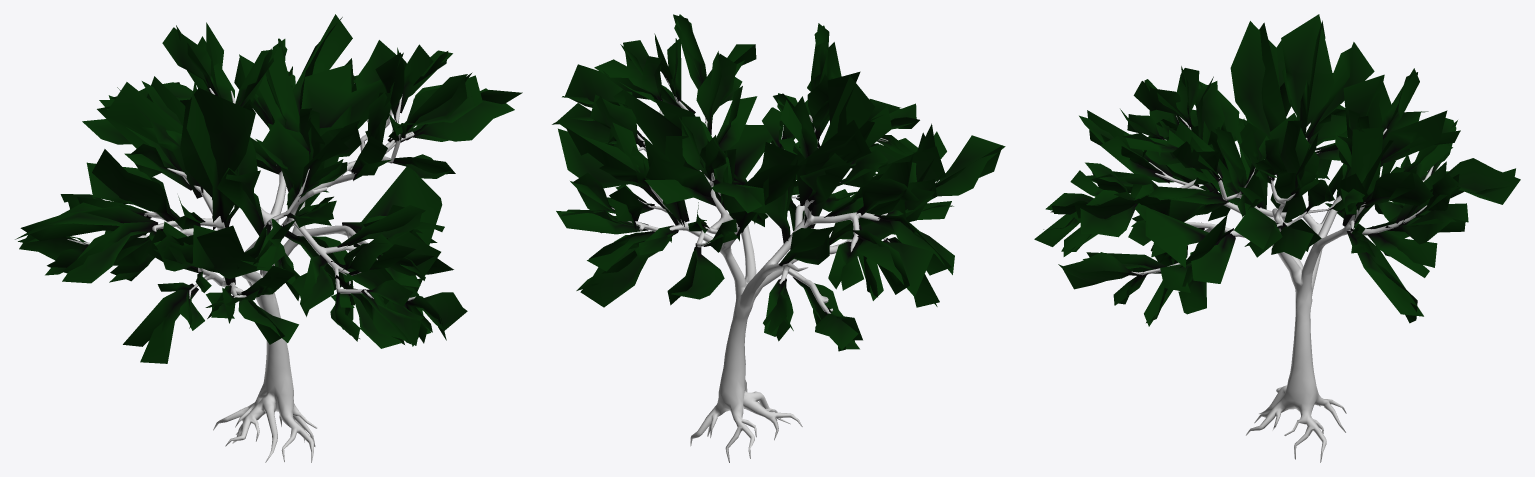
Rendered from DeadTreeCATAM_B.fbx.
3 renders of one model, left to right at view 1: azimuth 30°, elevation 25°; view 2: azimuth 150°, elevation 25°; view 3: azimuth 270°, elevation 25°, orthographic. The views are drawn at different scales.
Parts seen in each view (by area): view 1: DeadTreeCATAM_B_Leaves_LOD0, DeadTreeCATAM_B_Trunk_LOD0; view 2: DeadTreeCATAM_B_Leaves_LOD0, DeadTreeCATAM_B_Trunk_LOD0; view 3: DeadTreeCATAM_B_Leaves_LOD0, DeadTreeCATAM_B_Trunk_LOD0.
Part boxes in pixels (x1=…): DeadTreeCATAM_B_Leaves_LOD0: x1=15, y1=14, x2=522, y2=363; DeadTreeCATAM_B_Trunk_LOD0: x1=67, y1=88, x2=415, y2=462; DeadTreeCATAM_B_Leaves_LOD0: x1=552, y1=14, x2=1005, y2=351; DeadTreeCATAM_B_Trunk_LOD0: x1=611, y1=78, x2=889, y2=462; DeadTreeCATAM_B_Leaves_LOD0: x1=1034, y1=14, x2=1520, y2=326; DeadTreeCATAM_B_Trunk_LOD0: x1=1131, y1=116, x2=1433, y2=462.
Size of what is drawn, in the model's own units: 13.54 by 12.12 by 14.16.
